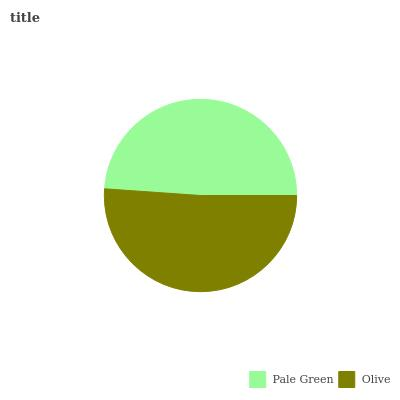legend: (234, 355, 400, 400)
sector: (99, 186, 298, 295), (101, 98, 296, 196)
